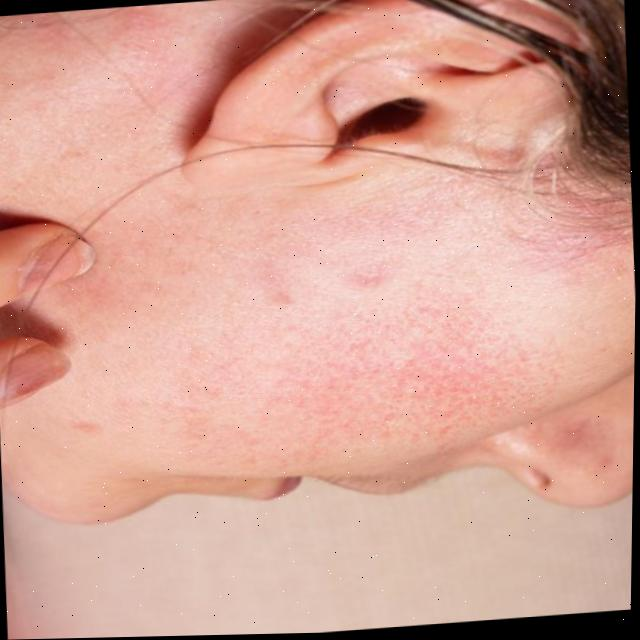Rosacea: (272, 299, 526, 456)
